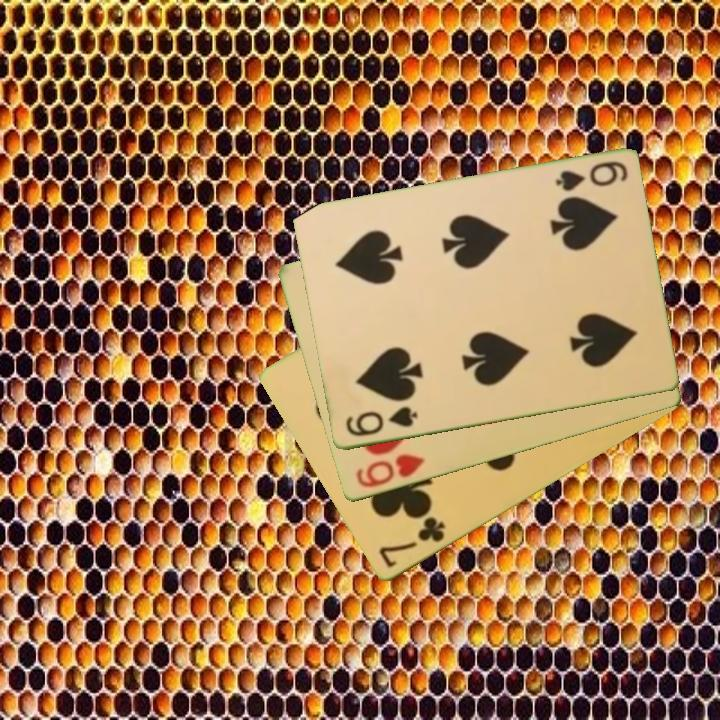6h: (352, 451, 428, 491)
6s: (551, 158, 630, 195), (342, 403, 420, 440)
7c: (375, 513, 449, 572)
